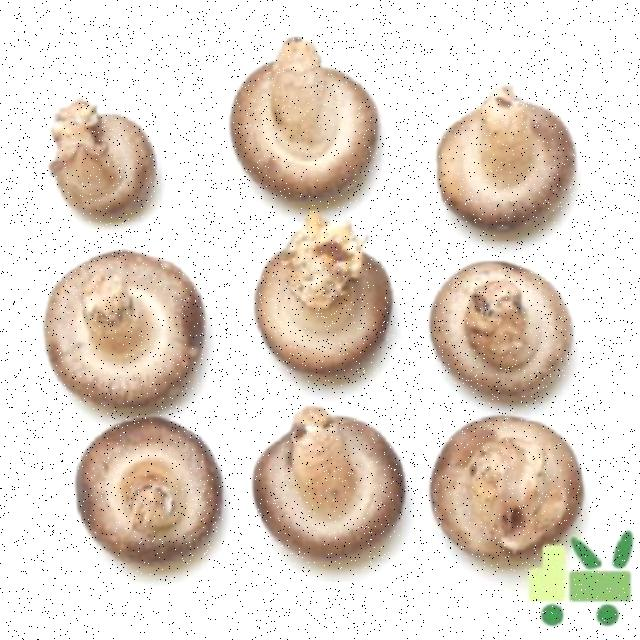Mushroom: (209, 22, 396, 207), (22, 233, 212, 405), (420, 234, 600, 408), (417, 413, 598, 569), (428, 68, 584, 235), (238, 216, 389, 376), (12, 74, 168, 226), (252, 404, 403, 551), (78, 416, 231, 558)
